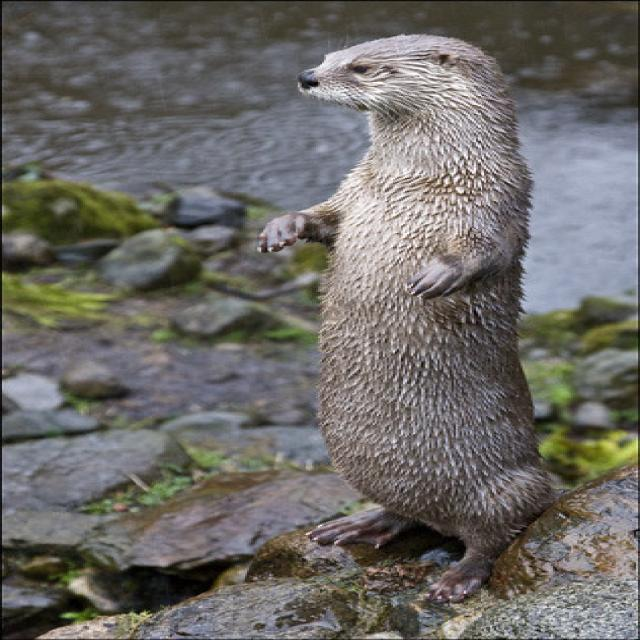otter: (260, 35, 564, 604)
